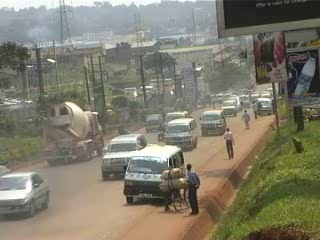Car: (0, 169, 51, 218), (101, 130, 148, 179), (144, 112, 165, 132), (218, 100, 237, 116), (227, 95, 243, 111)
Motorcycle: (156, 130, 164, 143)
